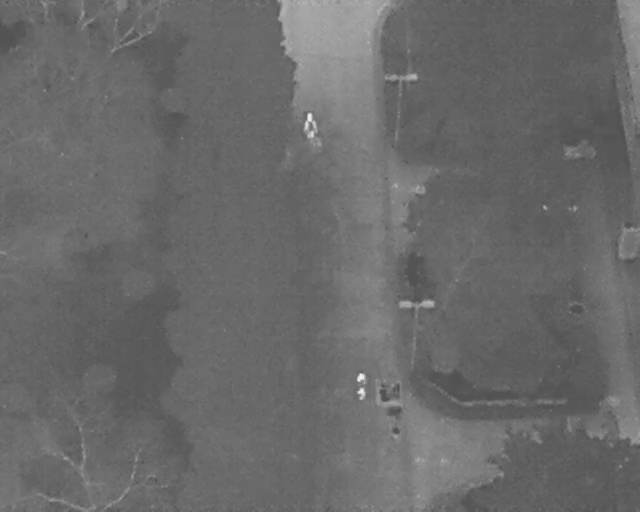Person: (303, 112, 318, 144), (354, 371, 367, 401)
